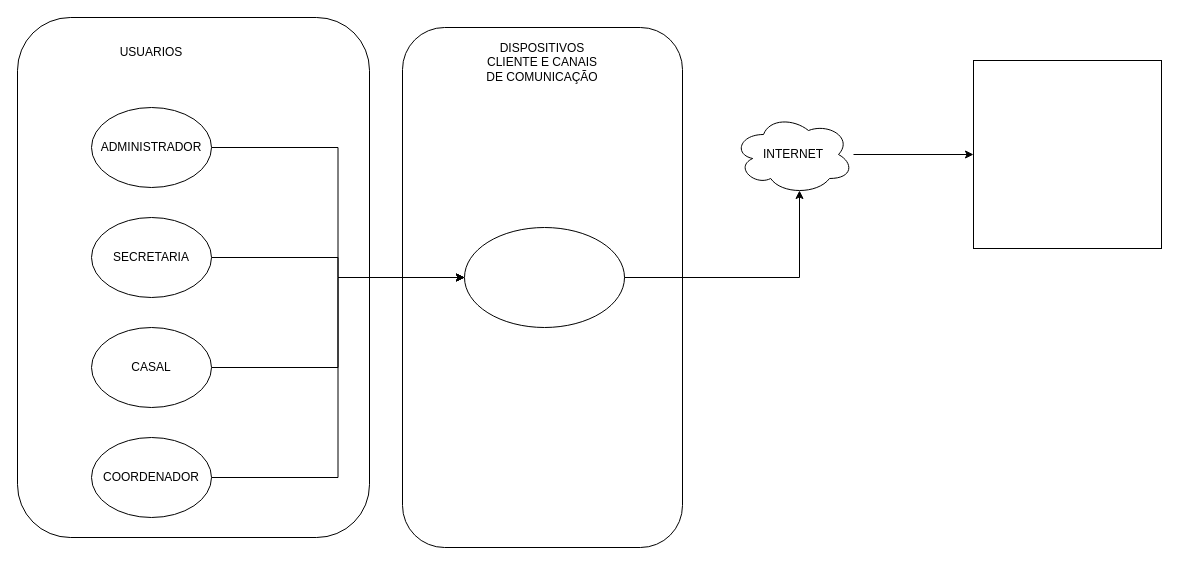
Image size: 1179x565. Some labels were removed from this diagram. Here are the shapes that lost their labels. From the top down, the centre of each, then its label:
At point (1067, 154): "SERVIDOR WEB SERVIDOR DE DADOS SERVIDOR DE APLICAÇÃO".
At point (544, 277): "CLIENTE WEB / SMARTPHONE E TABLETS".
